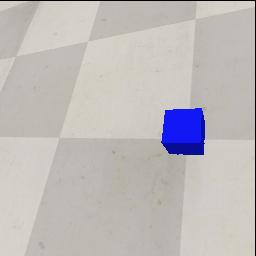box: (161, 107, 205, 155)
